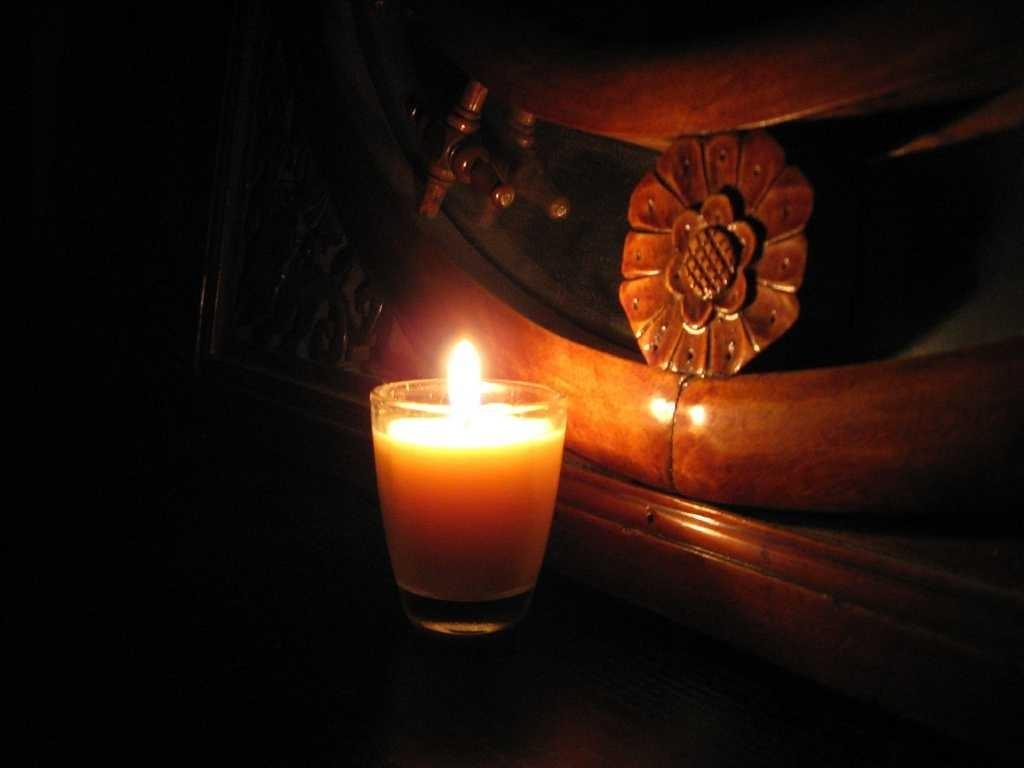fire: (450, 342, 484, 412)
